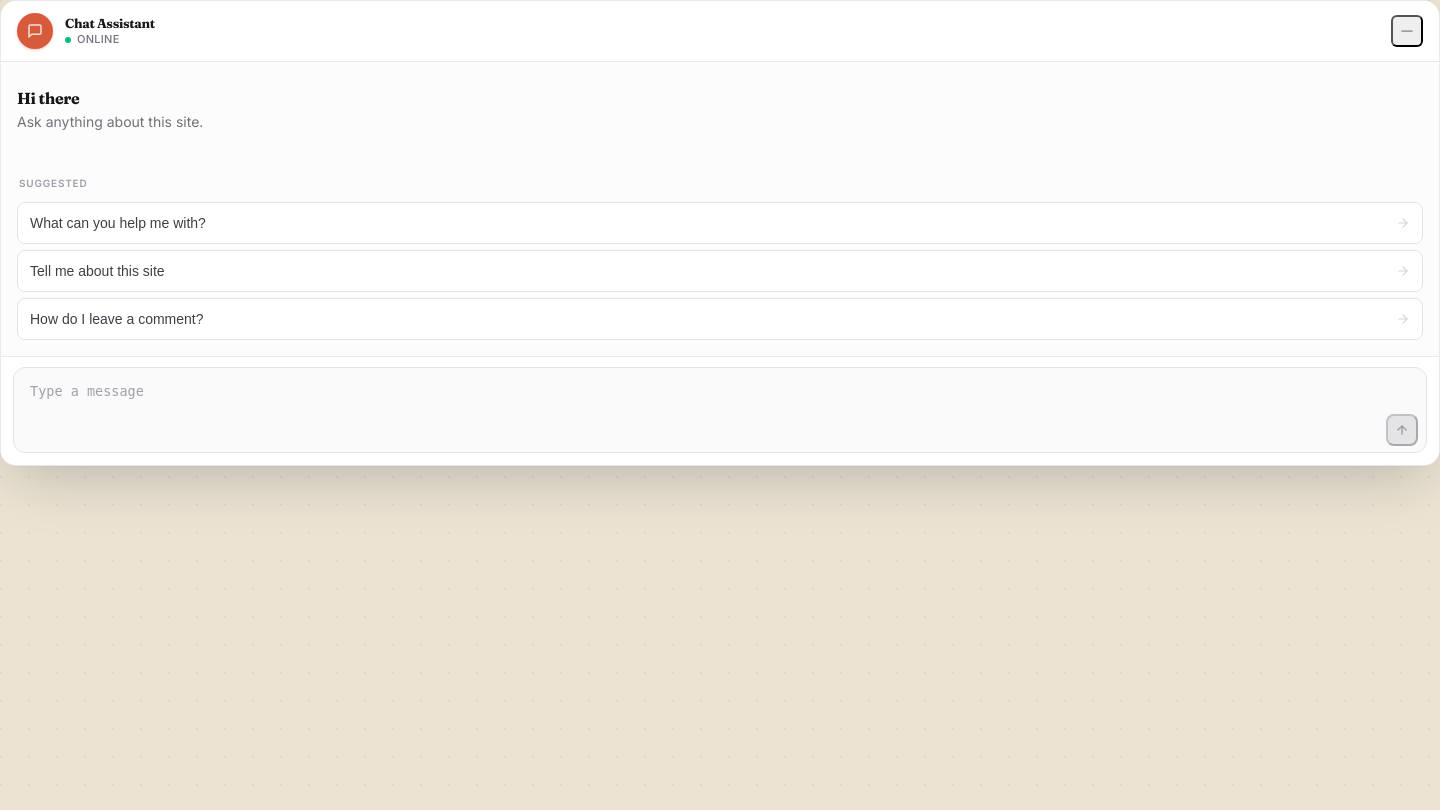
Scenario: ChatPanel › populates the input when a suggestion is clicked
Click the button "What can you help me with?". click: (118, 222)
box: [17,202,1423,244]
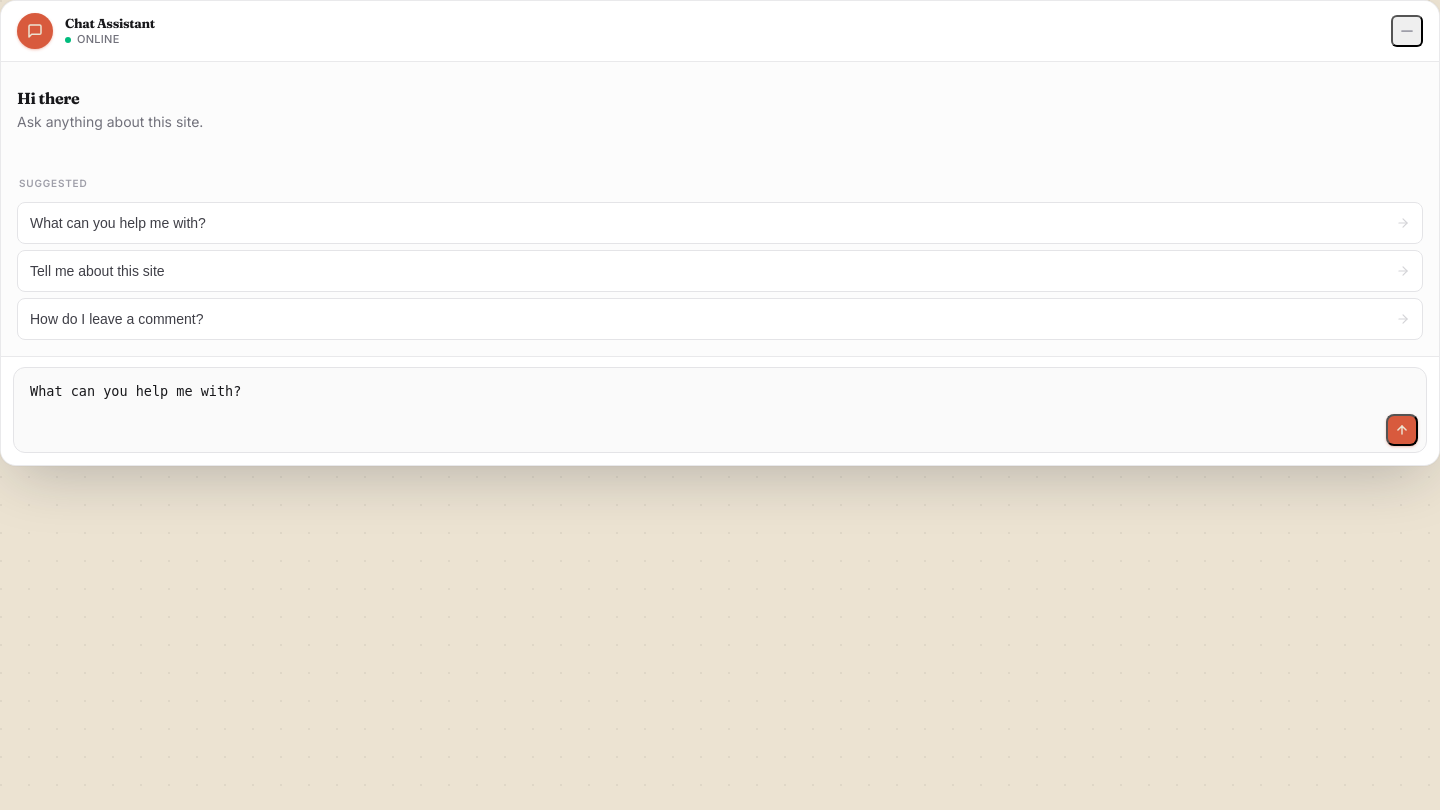
Check: the text box with placeholder "Type a message" holds "What can you help me with?", box [22,374,1378,446]
